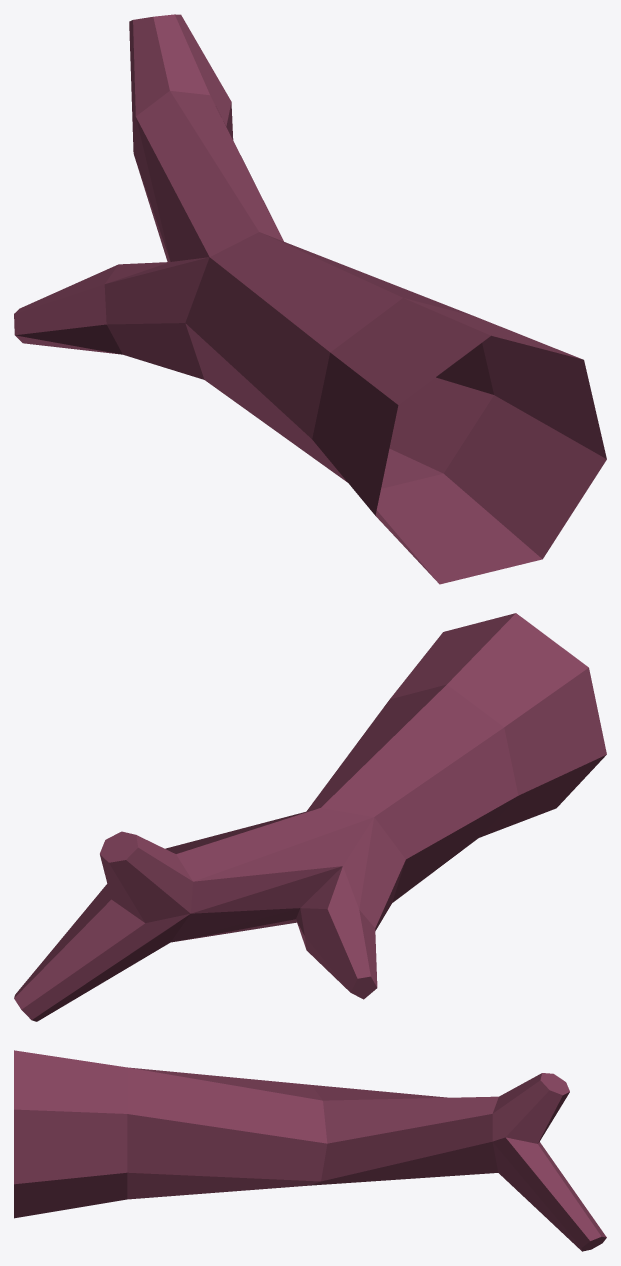
The model's file is Tree_6.fbx.
3 renders of one model, top to bottom at view 1: azimuth 30°, elevation 25°; view 2: azimuth 150°, elevation 25°; view 3: azimuth 270°, elevation 25°, orthographic. The views are drawn at different scales.
Parts seen in each view (by area): view 1: Tree_6.001; view 2: Tree_6.001; view 3: Tree_6.001.
Part boxes in pixels (x1,y1,x2,y2): Tree_6.001: (14, 14, 606, 584); Tree_6.001: (14, 613, 606, 1021); Tree_6.001: (14, 1050, 606, 1251).
Bounding box in the file's own units: 1.24 × 0.824 × 2.91.
